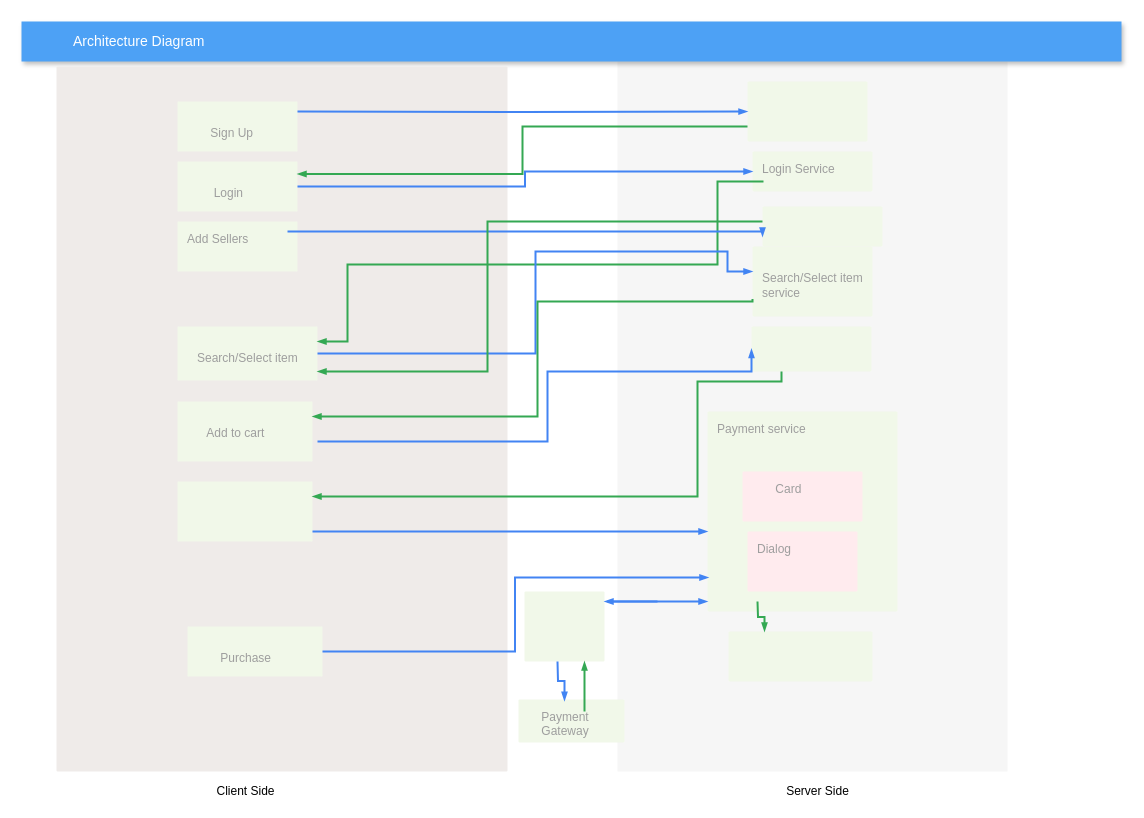
This 1144x818 diagram has some shape labels left out. Each missing label, with the centre of its shape:
"Add item service" goes at (822,226).
"Cart service" goes at (811,348).
"Enterprise integration - ESB" goes at (564,626).
"Loyality point service" goes at (800,656).
"Select payment method" goes at (244,511).
"Sign up service" goes at (807,111).
